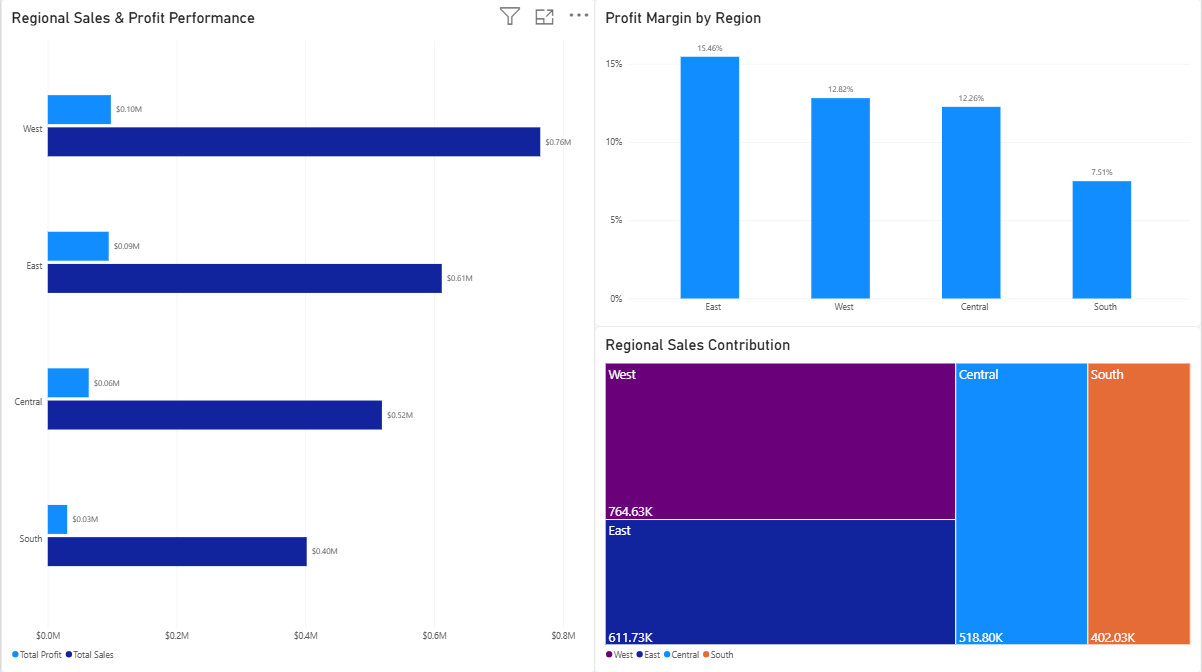

This screenshot's page, from the dashboard's own definition file:
{"tool":"powerbi","page":{"name":"Regional Performance","canvas":[1920,1080],"ordinal":1},"visuals":[{"type":"clusteredBarChart","title":"Regional Sales & Profit Performance","fields":{"Category":["Dim Customer.Region"],"Y":["Fact Orders.Total Profit","Fact Orders.Total Sales"]},"box":[0,0,950,1080],"z":0},{"type":"clusteredColumnChart","title":"Profit Margin by Region","fields":{"Category":["Dim Customer.Region"],"Y":["Fact Orders.Profit Margin %"]},"box":[950,0,970,524],"z":1000},{"type":"treemap","title":"Regional Sales Contribution","fields":{"Group":["Dim Customer.Region"],"Values":["Sum(Fact Orders.Sales)"]},"box":[950,524,970,556],"z":3000}]}

Visuals, with their boxes in screenshot pixels (x1, y1, x2, y2), scaled from the page's 1920x1080 canvas onto the 1202x672 screenshot:
"Regional Sales & Profit Performance" clusteredBarChart: bbox=(0, 0, 595, 671)
"Profit Margin by Region" clusteredColumnChart: bbox=(595, 0, 1201, 326)
"Regional Sales Contribution" treemap: bbox=(595, 326, 1201, 671)
